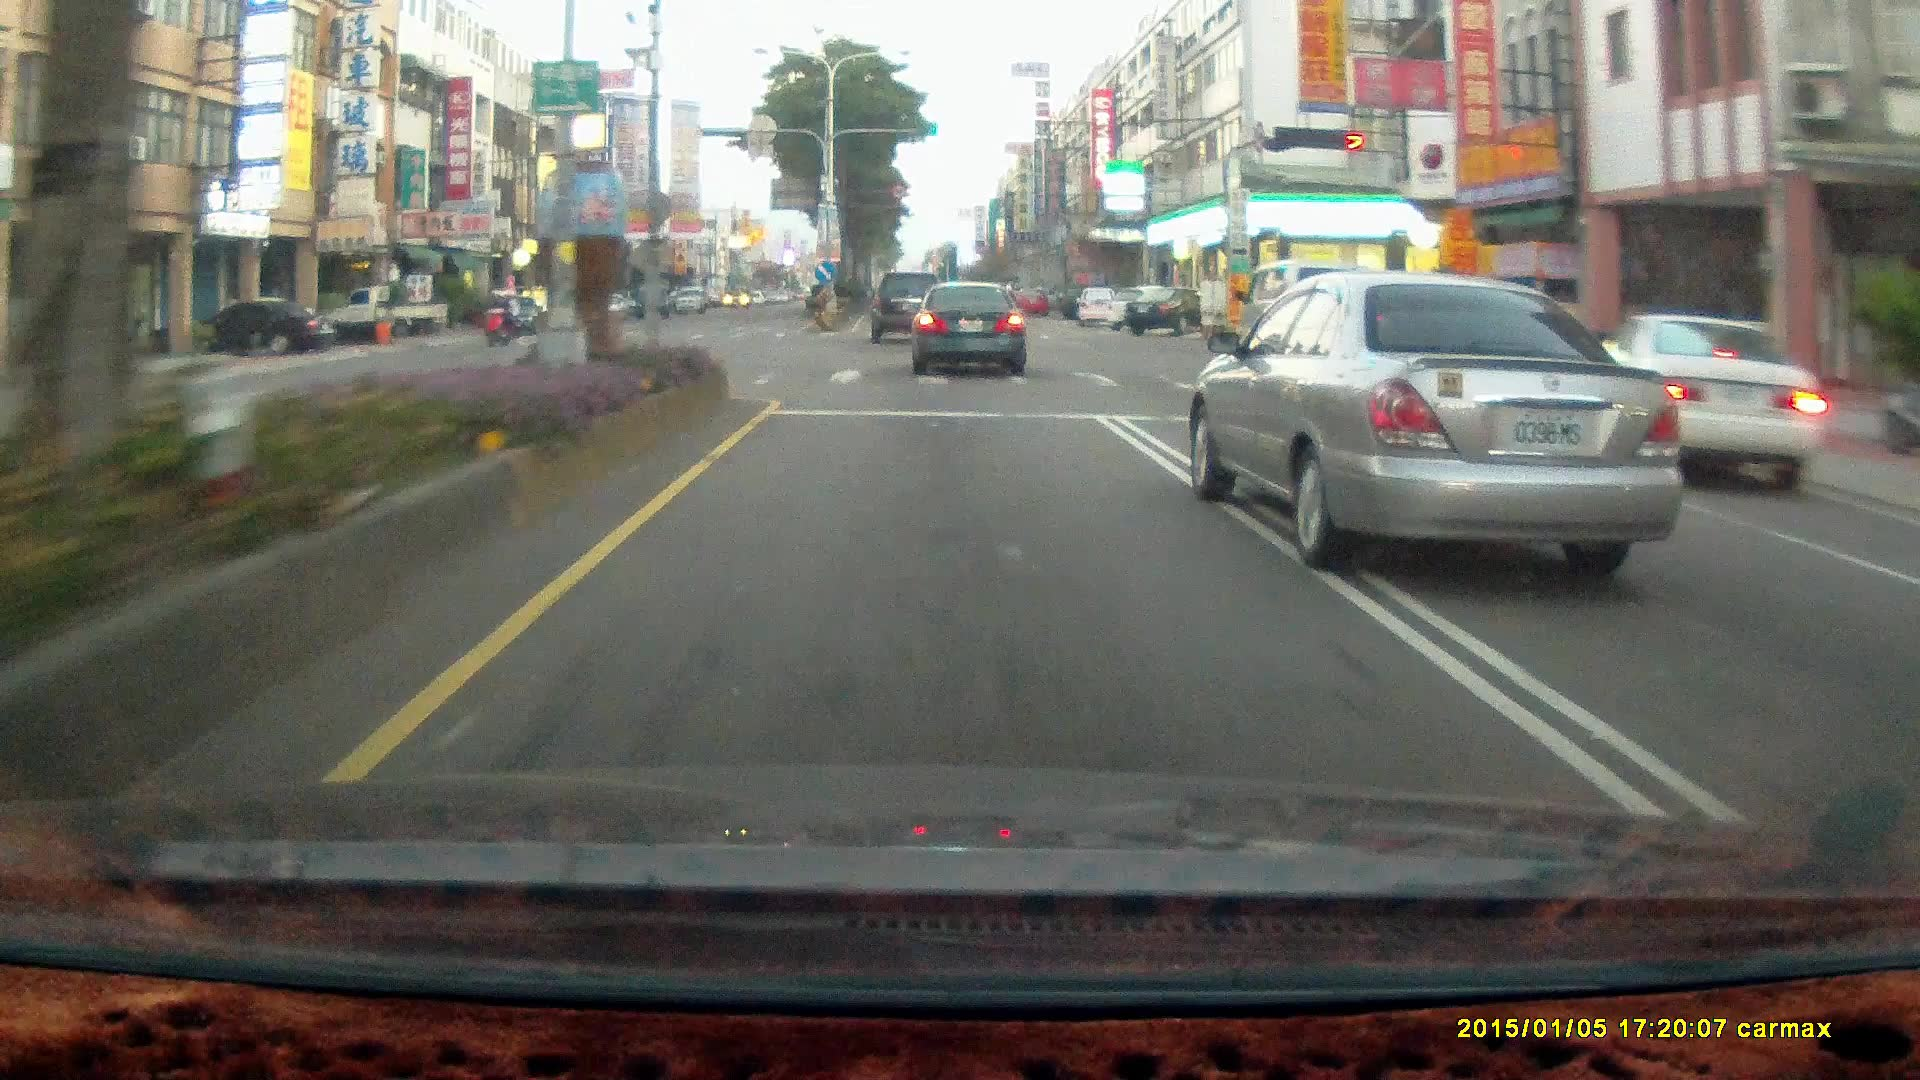rider: (486, 290, 520, 343)
vehicle: (1186, 271, 1690, 573), (1585, 311, 1831, 491), (1587, 314, 1831, 493), (1235, 259, 1397, 375), (1243, 265, 1405, 381), (910, 281, 1030, 381), (909, 279, 1024, 376), (171, 300, 329, 355), (214, 300, 337, 361), (336, 288, 453, 350), (322, 283, 446, 339), (870, 270, 957, 347), (873, 271, 949, 343), (1125, 283, 1214, 333), (1126, 287, 1196, 341), (1104, 288, 1160, 329), (486, 300, 547, 335), (1072, 285, 1121, 326), (588, 295, 628, 323), (671, 287, 702, 310)
